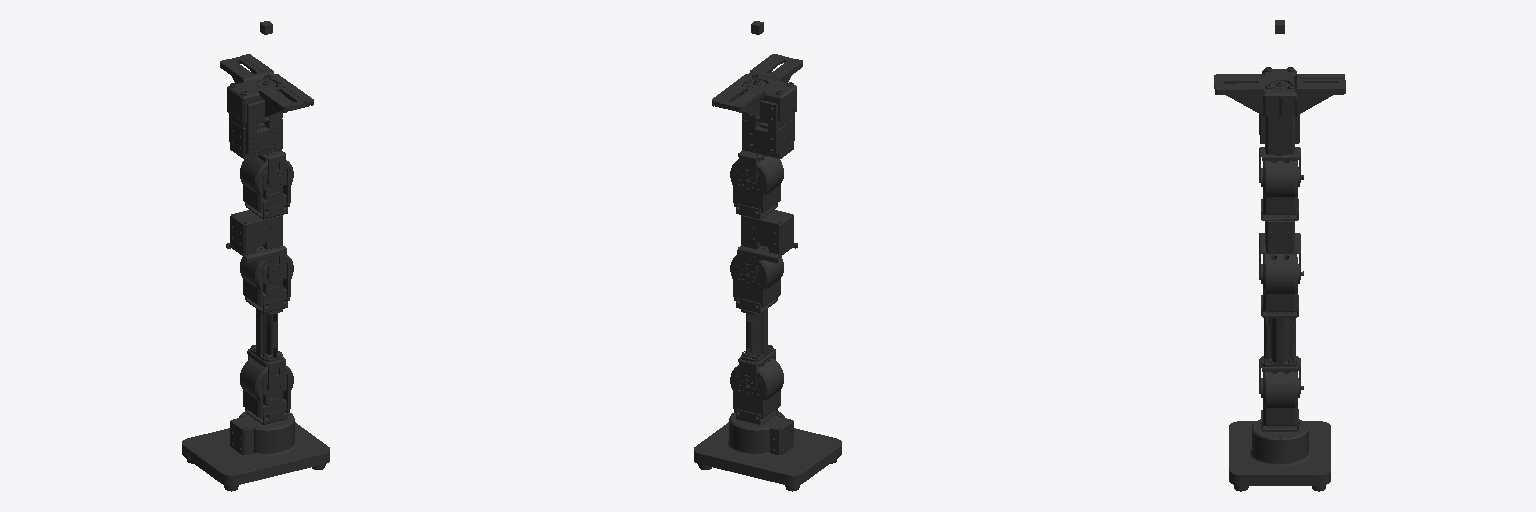
The robot description file, URDF, robot "topoarm":
<?xml version="1.0" ?>
<robot name="topoarm">
  <material name="grey">
    <color rgba="0.25 0.25 0.25 1.0"/>
  </material>
  <link name="world"/>
  <joint name="fixed_base_joint" type="fixed">
    <parent link="world"/>
    <child link="base_footprint"/>
    <origin rpy="0 0 0" xyz="0 0 0"/>
  </joint>
  <link name="base_footprint"/>
  <joint name="base_joint" type="fixed">
    <parent link="base_footprint"/>
    <child link="link1"/>
    <origin rpy="0 0 0" xyz="0.0 0 0"/>
  </joint>
  <link name="link1">
    <visual>
      <origin rpy="0 0 0" xyz="0 0 0"/>
      <geometry>
        <mesh filename="package://topoarm_description/meshes/topoarm/link1.stl" scale="0.001 0.001 0.001"/>
      </geometry>
      <material name="grey"/>
    </visual>
    <collision>
      <origin rpy="0 0 0" xyz="0 0 0"/>
      <geometry>
        <mesh filename="package://topoarm_description/meshes/topoarm/link1.stl" scale="0.001 0.001 0.001"/>
      </geometry>
    </collision>
    <inertial>
      <origin xyz="3.0876154e-04 0.0000000e+00 -1.2176461e-04"/>
      <mass value="7.9119962e-02"/>
      <inertia ixx="1.2505234e-05" ixy="0.0" ixz="-1.7855208e-07" iyy="2.1898364e-05" iyz="0.0" izz="1.9267361e-05"/>
    </inertial>
  </link>
  <joint name="joint1" type="revolute">
    <parent link="link1"/>
    <child link="link2"/>
    <origin rpy="0 0 0" xyz="0.0 0.0 0.051"/>
    <axis xyz="0 0 1"/>
    <limit effort="1" lower="-2.827433388230814" upper="2.827433388230814" velocity="4.8"/>
    <dynamics damping="0.7" friction="1.0"/>
  </joint>
  <link name="link2">
    <visual>
      <origin rpy="0 0 0" xyz="0 0 0"/>
      <geometry>
        <mesh filename="package://topoarm_description/meshes/topoarm/link2.stl" scale="0.001 0.001 0.001"/>
      </geometry>
      <material name="grey"/>
    </visual>
    <collision>
      <origin rpy="0 0 0" xyz="0 0 0"/>
      <geometry>
        <mesh filename="package://topoarm_description/meshes/topoarm/link2.stl" scale="0.001 0.001 0.001"/>
      </geometry>
    </collision>
    <inertial>
      <origin xyz="-3.0184870e-04 5.4043684e-04 0.047433463999999995"/>
      <mass value="9.8406837e-02"/>
      <inertia ixx="3.4543422e-05" ixy="-1.6031095e-08" ixz="-3.8375155e-07" iyy="3.2689329e-05" iyz="2.8511935e-08" izz="1.8850320e-05"/>
    </inertial>
  </link>
  <joint name="joint2" type="revolute">
    <parent link="link2"/>
    <child link="link3"/>
    <origin rpy="0 0 0" xyz="0.0 0.0 0.0405"/>
    <axis xyz="0 1 0"/>
    <limit effort="1" lower="-1.6996016255920783" upper="1.7655750713174638" velocity="4.8"/>
    <dynamics damping="0.7" friction="1.0"/>
  </joint>
  <link name="link3">
    <visual>
      <origin rpy="0 0 0" xyz="0 0 0"/>
      <geometry>
        <mesh filename="package://topoarm_description/meshes/topoarm/link3.stl" scale="0.001 0.001 0.001"/>
      </geometry>
      <material name="grey"/>
    </visual>
    <collision>
      <origin rpy="0 0 0" xyz="0 0 0"/>
      <geometry>
        <mesh filename="package://topoarm_description/meshes/topoarm/link3.stl" scale="0.001 0.001 0.001"/>
      </geometry>
    </collision>
    <inertial>
      <origin xyz="0 0 0"/>
      <mass value="0.131"/>
      <inertia ixx="3.3055381e-04" ixy="-9.7940978e-08" ixz="-3.8505711e-05" iyy="3.4290447e-04" iyz="-1.5717516e-06" izz="6.0346498e-05"/>
    </inertial>
  </link>
  <joint name="joint3" type="revolute">
    <parent link="link3"/>
    <child link="link4"/>
    <origin rpy="0 0 0" xyz="0.0 0 0.1235"/>
    <axis xyz="0 1 0"/>
    <limit effort="1" lower="-1.7592918860102844" upper="1.8566812582715677" velocity="4.8"/>
    <dynamics damping="0.7" friction="1.0"/>
  </joint>
  <link name="link4">
    <visual>
      <origin rpy="0 0 0" xyz="0 0 0"/>
      <geometry>
        <mesh filename="package://topoarm_description/meshes/topoarm/link4.stl" scale="0.001 0.001 0.001"/>
      </geometry>
      <material name="grey"/>
    </visual>
    <collision>
      <origin rpy="0 0 0" xyz="0 0 0"/>
      <geometry>
        <mesh filename="package://topoarm_description/meshes/topoarm/link4.stl" scale="0.001 0.001 0.001"/>
      </geometry>
    </collision>
    <inertial>
      <origin xyz="0 0 0"/>
      <mass value="0.098"/>
      <inertia ixx="0.1" ixy="0.0" ixz="0.0" iyy="0.1" iyz="0.0" izz="0.1"/>
    </inertial>
  </link>
  <joint name="joint4" type="revolute">
    <parent link="link4"/>
    <child link="link5"/>
    <origin rpy="0 0 0" xyz="0.0 0.0 0.06385"/>
    <axis xyz="0 0 1"/>
    <limit effort="1" lower="-1.5707963267948966" upper="1.5707963267948966" velocity="4.8"/>
    <dynamics damping="0.7" friction="1.0"/>
  </joint>
  <link name="link5">
    <visual>
      <origin rpy="0 0 0" xyz="0 0 0"/>
      <geometry>
        <mesh filename="package://topoarm_description/meshes/topoarm/link5.stl" scale="0.001 0.001 0.001"/>
      </geometry>
      <material name="grey"/>
    </visual>
    <collision>
      <origin rpy="0 0 0" xyz="0 0 0"/>
      <geometry>
        <mesh filename="package://topoarm_description/meshes/topoarm/link5.stl" scale="0.001 0.001 0.001"/>
      </geometry>
    </collision>
    <inertial>
      <origin xyz="0 0 0"/>
      <mass value="0.098"/>
      <inertia ixx="0.1" ixy="0.0" ixz="0.0" iyy="0.1" iyz="0.0" izz="0.1"/>
    </inertial>
  </link>
  <joint name="joint5" type="revolute">
    <parent link="link5"/>
    <child link="link6"/>
    <origin rpy="0 0 0" xyz="0.0 0.0 0.0405"/>
    <axis xyz="0 1 0"/>
    <limit effort="1" lower="-1.6681856990561803" upper="1.7812830345854125" velocity="4.8"/>
    <dynamics damping="0.7" friction="1.0"/>
  </joint>
  <link name="link6">
    <visual>
      <origin rpy="0 0 0" xyz="0 0 0.0"/>
      <geometry>
        <mesh filename="package://gng_vlut_system/urdf/meshes/topoarm/link6.stl" scale="0.001 0.001 0.001"/>
      </geometry>
      <material name="grey"/>
    </visual>
    <collision>
      <origin rpy="0 0 0" xyz="0 0 0.0"/>
      <geometry>
        <mesh filename="package://topoarm_description/meshes/topoarm/link6.stl" scale="0.001 0.001 0.001"/>
      </geometry>
    </collision>
    <inertial>
      <origin xyz="4.4206755e-02 3.6839985e-07 8.9142216e-03"/>
      <mass value="1.4327573e-01"/>
      <inertia ixx="8.0870749e-05" ixy="0.0" ixz="-1.0157896e-06" iyy="7.5980465e-05" iyz="0.0" izz="9.3127351e-05"/>
    </inertial>
  </link>
  <joint name="joint6" type="revolute">
    <parent link="link6"/>
    <child link="link7"/>
    <origin rpy="0 0 0" xyz="0.0 0.0 0.028"/>
    <axis xyz="0 0 1"/>
    <limit effort="1" lower="-2.827433388230814" upper="2.827433388230814" velocity="4.8"/>
    <dynamics damping="0.7" friction="1.0"/>
  </joint>
  <link name="link7">
    <visual>
      <origin rpy="0 0 0" xyz="0 0 0.0"/>
      <geometry>
        <mesh filename="package://topoarm_description/meshes/topoarm/link7.stl" scale="0.001 0.001 0.001"/>
      </geometry>
      <material name="grey"/>
    </visual>
    <collision>
      <origin rpy="0 0 0" xyz="0 0 0.0"/>
      <geometry>
        <mesh filename="package://topoarm_description/meshes/topoarm/link7.stl" scale="0.001 0.001 0.001"/>
      </geometry>
    </collision>
    <inertial>
      <origin xyz="4.4206755e-02 3.6839985e-07 8.9142216e-03"/>
      <mass value="1.4327573e-01"/>
      <inertia ixx="8.0870749e-05" ixy="0.0" ixz="-1.0157896e-06" iyy="7.5980465e-05" iyz="0.0" izz="9.3127351e-05"/>
    </inertial>
  </link>
  <link name="gripper_left_link">
    <visual>
      <origin rpy="0 0 0" xyz="0 0 0"/>
      <geometry>
        <mesh filename="package://topoarm_description/meshes/topoarm/gripper_left_palm.stl" scale="0.001 0.001 0.001"/>
      </geometry>
      <material name="grey"/>
    </visual>
    <collision>
      <origin rpy="0 0 0" xyz="0 0 0"/>
      <geometry>
        <mesh filename="package://topoarm_description/meshes/topoarm/gripper_left_palm.stl" scale="0.001 0.001 0.001"/>
      </geometry>
    </collision>
    <inertial>
      <origin xyz="0 0 0"/>
      <mass value="1.0e-03"/>
      <inertia ixx="1.0e-03" ixy="0.0" ixz="0.0" iyy="1.0e-03" iyz="0.0" izz="1.0e-03"/>
    </inertial>
  </link>
  <joint name="gripper_left_joint" type="prismatic">
    <parent link="link7"/>
    <child link="gripper_left_link"/>
    <origin rpy="0 0 0" xyz="-0.0005 0.021 0.0898"/>
    <axis xyz="0 1 0"/>
    <limit effort="1" lower="-0.010" upper="0.019" velocity="4.8"/>
    <dynamics damping="0.7" friction="1.0"/>
  </joint>
  <!-- Move it 2 not find mimic-->
  <!-- https://github.com/ROBOTIS-GIT/turtlebot3_lime/issues/66  -->
  <joint name="gripper_right_joint_mimic" type="fixed">
    <parent link="link7"/>
    <child link="dummy_mimic_fix"/>
  </joint>
  <link name="dummy_mimic_fix"/>
  <joint name="gripper_right_joint" type="prismatic">
    <parent link="link7"/>
    <child link="gripper_right_link"/>
    <origin rpy="0 0 0" xyz="-0.0005 -0.021 0.0898"/>
    <axis xyz="0 -1 0"/>
    <limit effort="1" lower="-0.010" upper="0.019" velocity="4.8"/>
    <mimic joint="gripper_left_joint" multiplier="1"/>
    <dynamics damping="0.7" friction="1.0"/>
  </joint>
  <link name="gripper_right_link">
    <visual>
      <origin rpy="0 0 0" xyz="0 0 0"/>
      <geometry>
        <mesh filename="package://topoarm_description/meshes/topoarm/gripper_right_palm.stl" scale="0.001 0.001 0.001"/>
      </geometry>
      <material name="grey"/>
    </visual>
    <collision>
      <origin rpy="0 0 0" xyz="0 0 0"/>
      <geometry>
        <mesh filename="package://topoarm_description/meshes/topoarm/gripper_right_palm.stl" scale="0.001 0.001 0.001"/>
      </geometry>
    </collision>
    <inertial>
      <origin xyz="0 0 0"/>
      <mass value="1.0e-03"/>
      <inertia ixx="1.0e-03" ixy="0.0" ixz="0.0" iyy="1.0e-03" iyz="0.0" izz="1.0e-03"/>
    </inertial>
  </link>
  <joint name="end_effector_joint" type="fixed">
    <origin rpy="0 0 0" xyz="-0.0005 0.0 0.1341"/>
    <parent link="link7"/>
    <child link="end_effector_link"/>
  </joint>
  <link name="end_effector_link">
    <visual>
      <origin rpy="0 0 0" xyz="0 0 0"/>
      <geometry>
        <box size="0.01 0.01 0.01"/>
      </geometry>
      <material name="grey"/>
    </visual>
    <inertial>
      <origin xyz="0 0 0"/>
      <mass value="1.0e-03"/>
      <inertia ixx="1.0e-03" ixy="0.0" ixz="0.0" iyy="1.0e-03" iyz="0.0" izz="1.0e-03"/>
    </inertial>
  </link>
  <!-- <xacro:topoarm_gazebo prefix="$(arg prefix)"/>

    <xacro:topoarm_system name="TopoArmSystem" prefix="$(arg prefix)" use_sim="$(arg use_sim)" torque="$(arg torque)" use_fake_hardware="$(arg fake_sensor_commands)" fake_sensor_commands="$(arg fake_sensor_commands)"/> -->
  <!-- <gazebo>
        <plugin name="gazebo_ros2_control" filename="libgazebo_ros2_control.so">
        <parameters>$(find topoarm_bringup)/config/gazebo_controller_manager.yaml</parameters>
        </plugin>
    </gazebo> -->
</robot>

--- Render facts (derived) ---
The picture shows the robot from 3 angles, left to right: view 1: azimuth 30°, elevation 25°; view 2: azimuth 150°, elevation 25°; view 3: azimuth 270°, elevation 25°; orthographic projection.
Robot: topoarm — 13 links, 12 joints (6 revolute, 2 prismatic, 4 fixed); root link world; default pose: every joint at zero.
Visible links, largest first — view 1: link1, link7, link3, link4, link2, link5, link6; view 2: link1, link7, link3, link4, link2, link5, link6; view 3: link1, link7, link3, link5, link2, link4.
Boxes of the visible links, left/top/right/bottom form: link1: left=182, top=411, right=329, bottom=491; link7: left=220, top=54, right=313, bottom=158; link3: left=240, top=253, right=293, bottom=390; link4: left=226, top=210, right=286, bottom=278; link2: left=240, top=358, right=293, bottom=424; link5: left=240, top=156, right=293, bottom=219; link6: left=257, top=150, right=285, bottom=184; link1: left=694, top=411, right=841, bottom=491; link7: left=712, top=54, right=802, bottom=158; link3: left=730, top=254, right=783, bottom=390; link4: left=737, top=210, right=797, bottom=279; link2: left=730, top=358, right=783, bottom=424; link5: left=730, top=156, right=783, bottom=219; link6: left=738, top=150, right=766, bottom=184; link1: left=1229, top=419, right=1330, bottom=491; link7: left=1214, top=67, right=1345, bottom=155; link3: left=1259, top=254, right=1303, bottom=393; link5: left=1261, top=161, right=1303, bottom=220; link2: left=1261, top=372, right=1303, bottom=431; link4: left=1259, top=221, right=1300, bottom=279.
Size in the robot's own frame: 0.125 by 0.1289 by 0.4864 metres.
Meshes: 9 distinct files referenced, 7 mesh visuals loaded (7 binary STL); not drawn: 2 (reference not matched to a file when rendering).
